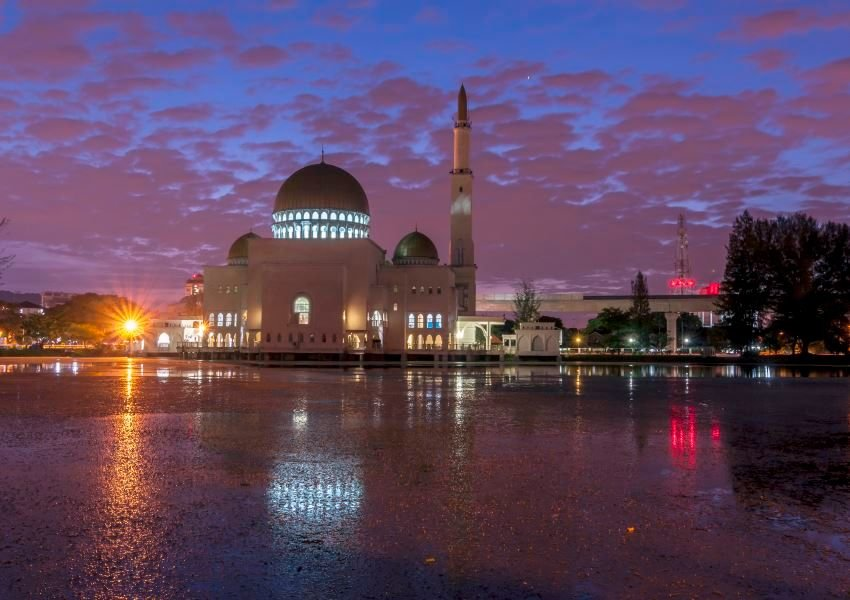Mosque: (187, 75, 488, 364)
